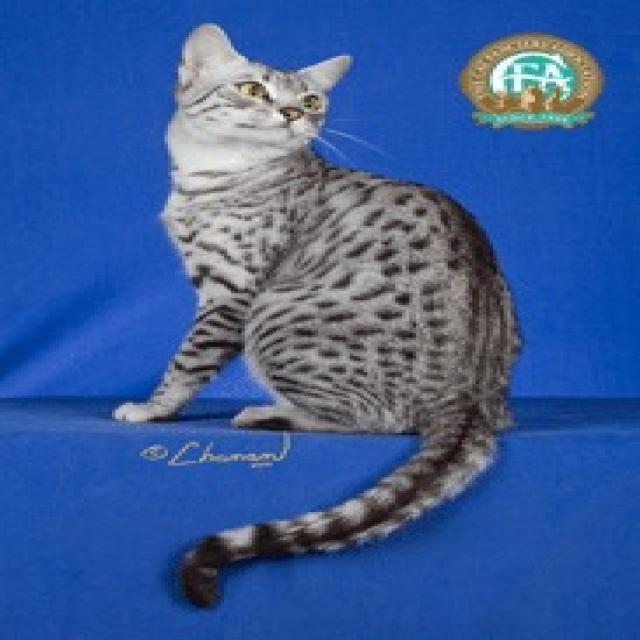Egyptian_Mau: (148, 16, 350, 154)
